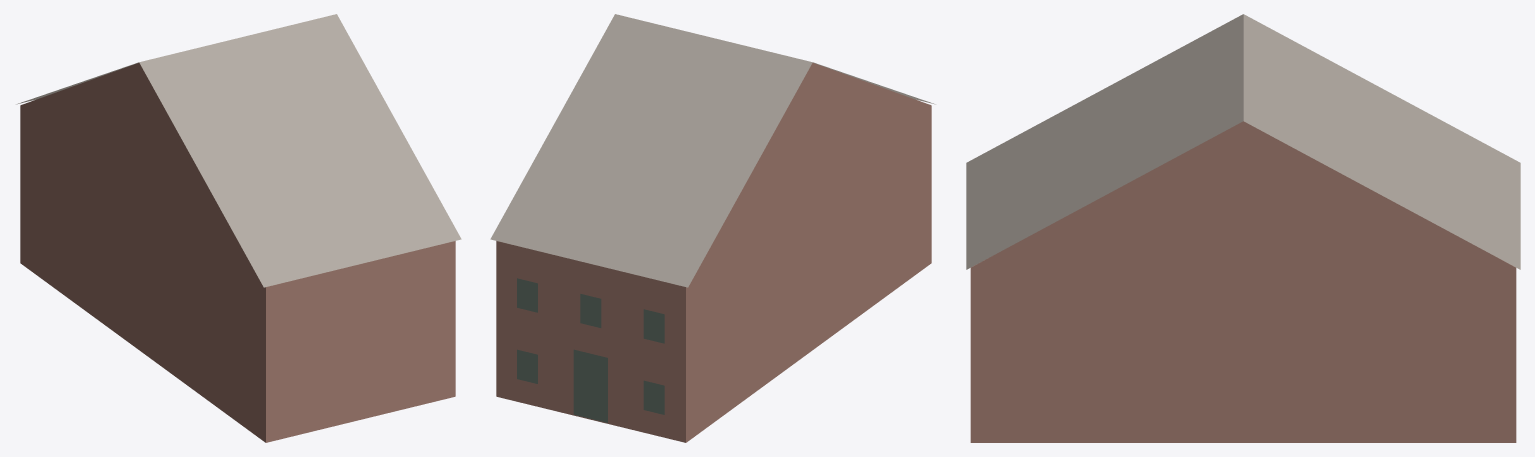
The model's file is recon_1835_south_f2_039__recommended_1835.glb.
3 views of the same model, side by side, from view 1: azimuth 30°, elevation 25°; view 2: azimuth 150°, elevation 25°; view 3: azimuth 270°, elevation 25° (orthographic). The views are drawn at different scales.
Parts seen in each view (by area): view 1: recon_1835_south_f2_039__recommended_1835; view 2: recon_1835_south_f2_039__recommended_1835; view 3: recon_1835_south_f2_039__recommended_1835.
Part boxes in pixels (x1,y1,x2,y2): recon_1835_south_f2_039__recommended_1835: [16, 14, 461, 442]; recon_1835_south_f2_039__recommended_1835: [490, 14, 935, 442]; recon_1835_south_f2_039__recommended_1835: [966, 14, 1520, 442].
Size of the model in its own units: 7.02 by 9.9 by 15.35.
